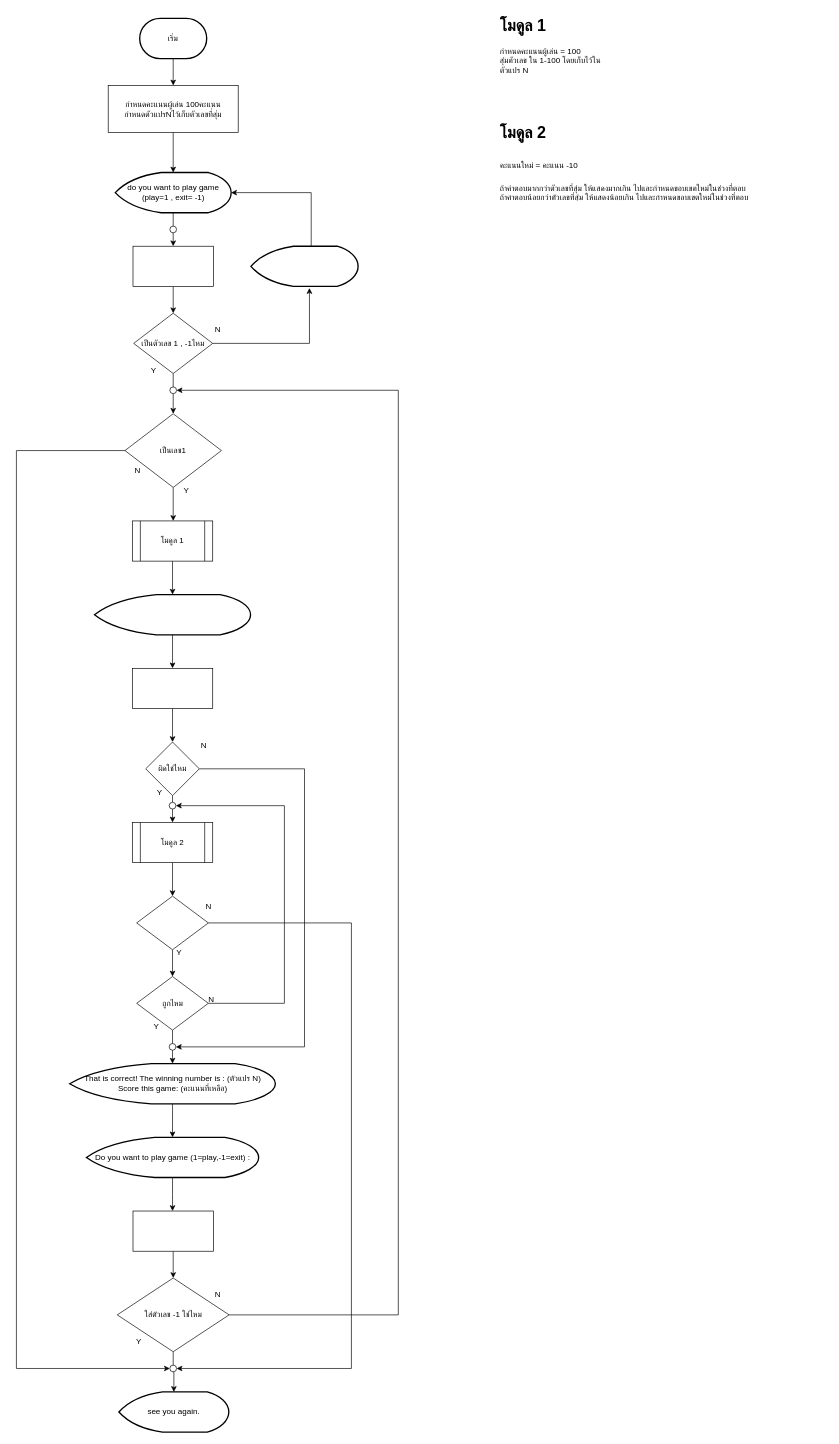
Image size: 839x1444. Some labels were removed from this diagram. Each missing label, with the centre of its shape:
Guess the winning number (1-100) :: point (172, 614)
please enter only 1 or -1: point (304, 266)
คะแนนเหลืออยู่ไหม: point (172, 922)
ตรวจสอบว่าเป็นตัวเลข 1 หรือ -1 ไหม: point (172, 1230)
ตรวจสอบว่าเป็นตัวเลขหรือเปล่า และเป็น 1 , -1 ไหม: point (172, 266)
รับค่าตัวเลขจากที่ผู้เล่นพิมพ์: point (172, 688)
